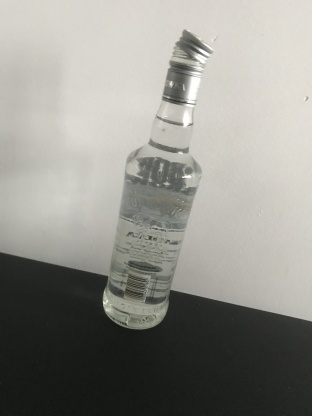nakretka: (160, 27, 214, 109)
